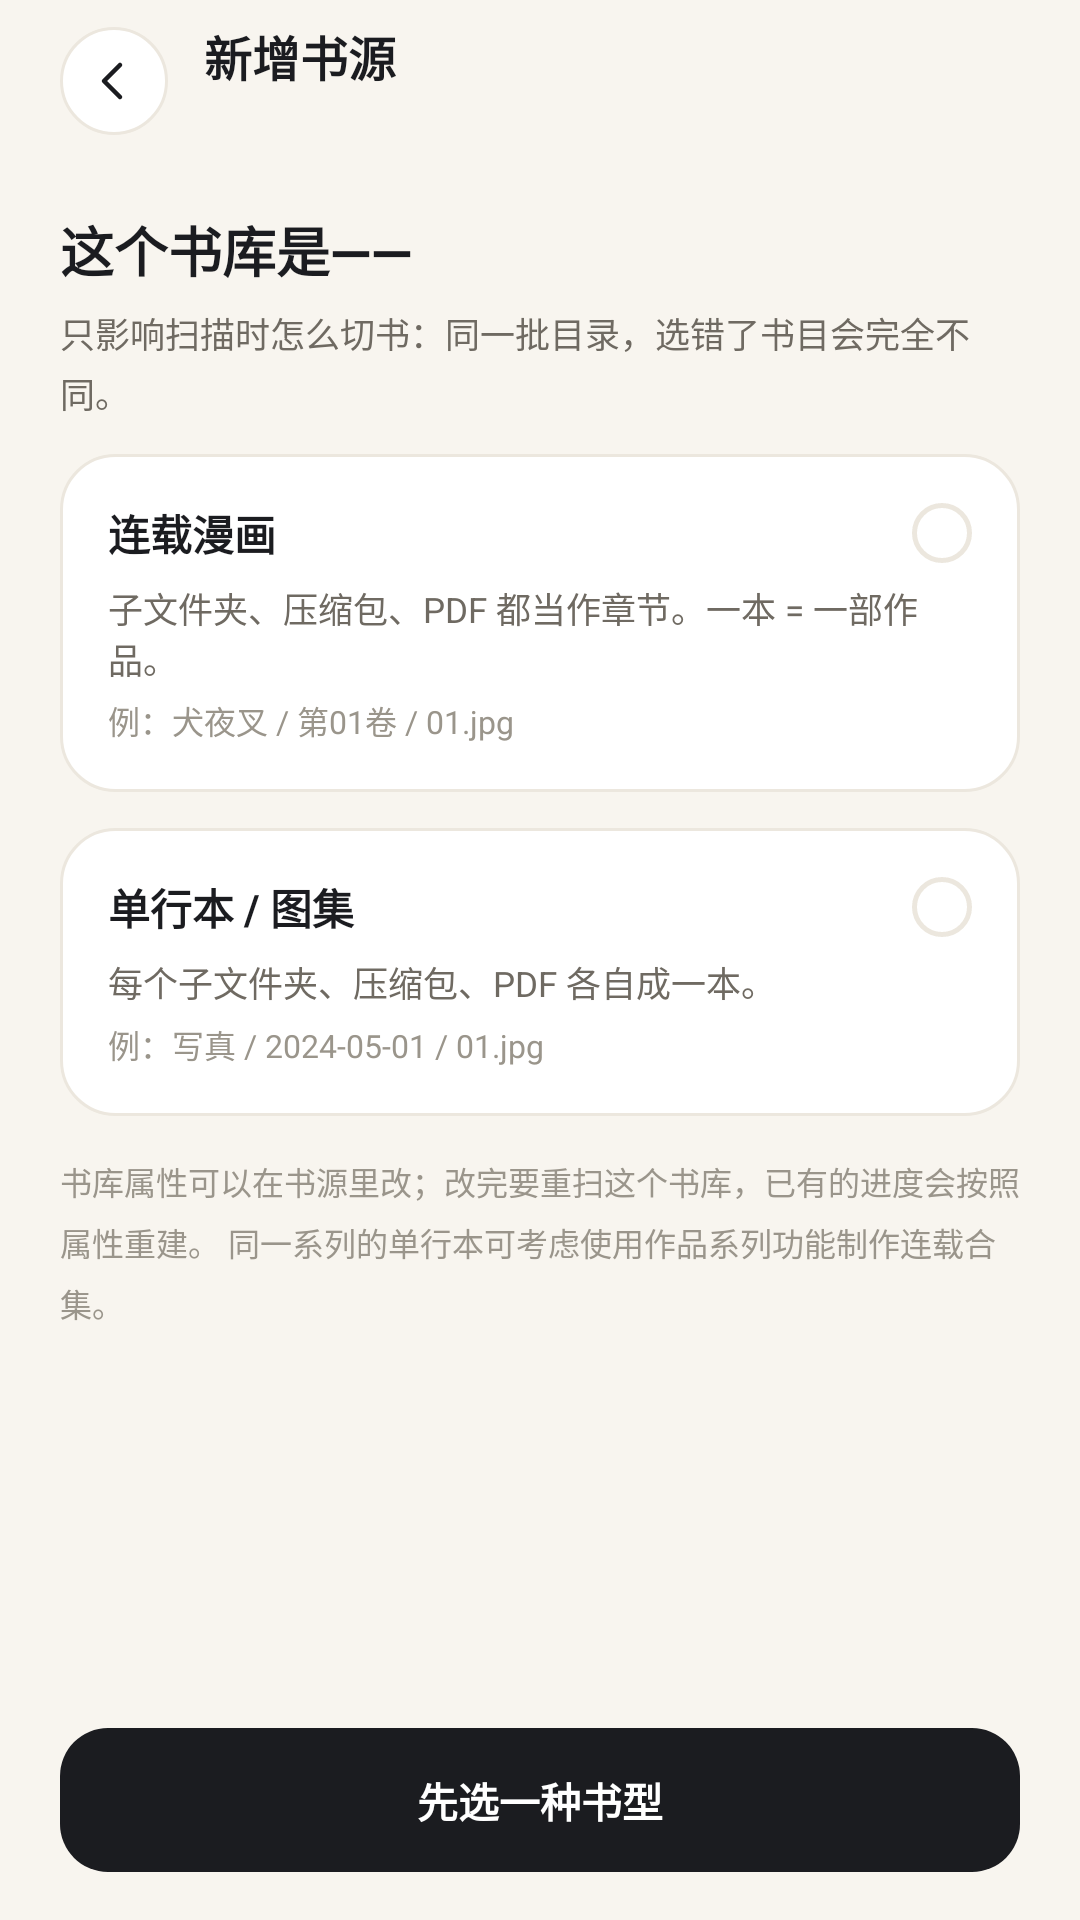

Where icons sit on this 1080*1920 app screen, as (left=x1, top=y1, right=x2, bottom=y2):
返回: (left=60, top=27, right=168, bottom=135)
